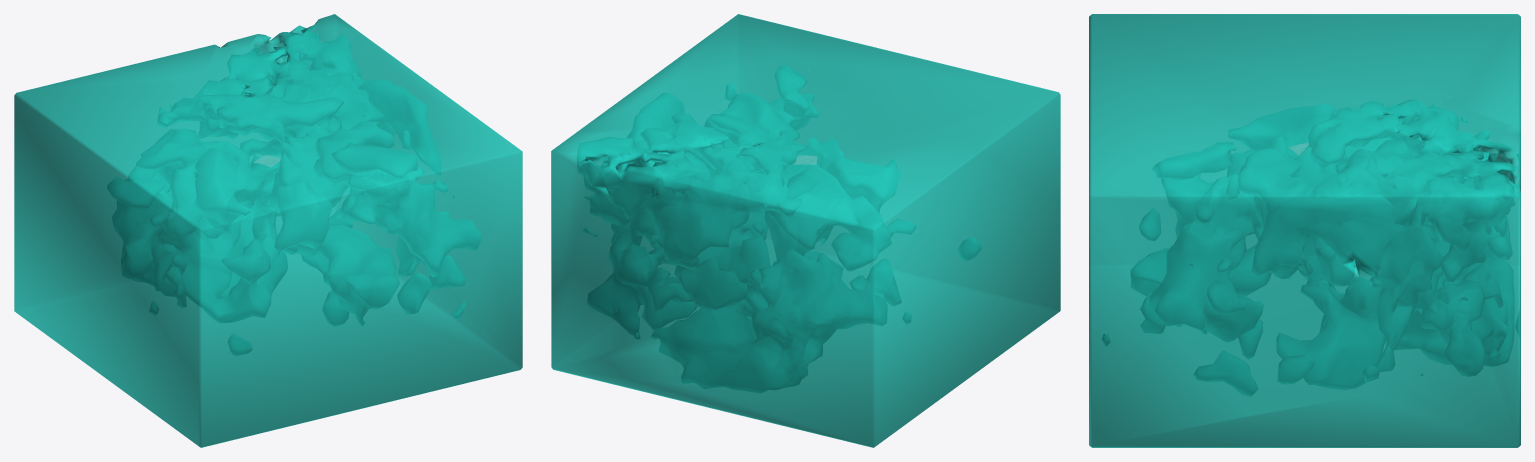
3 views of the same model, side by side, from view 1: azimuth 30°, elevation 25°; view 2: azimuth 150°, elevation 25°; view 3: azimuth 270°, elevation 25° (orthographic). The views are drawn at different scales.
Parts seen in each view (by area): view 1: Liquid_Domain; view 2: Liquid_Domain; view 3: Liquid_Domain.
Boxes of the visible parts, x1=… form: Liquid_Domain: x1=14, y1=14, x2=522, y2=447; Liquid_Domain: x1=551, y1=14, x2=1060, y2=447; Liquid_Domain: x1=1089, y1=14, x2=1520, y2=447.
Bounding box in the file's own units: 391 × 254 × 391.
